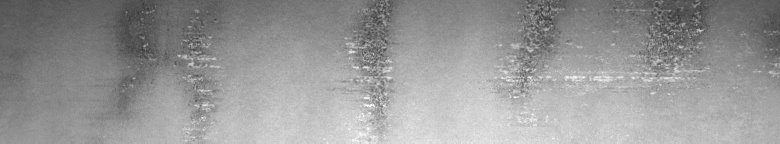hc: (344, 4, 393, 116)
